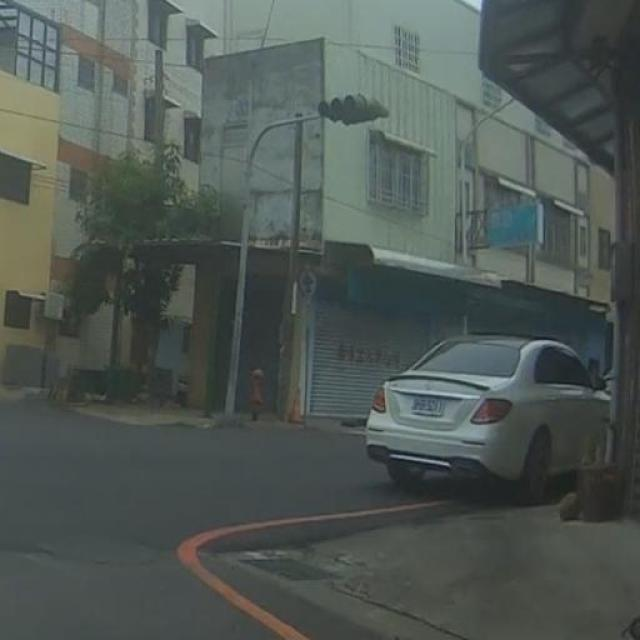illegalparking: (366, 335, 608, 502)
